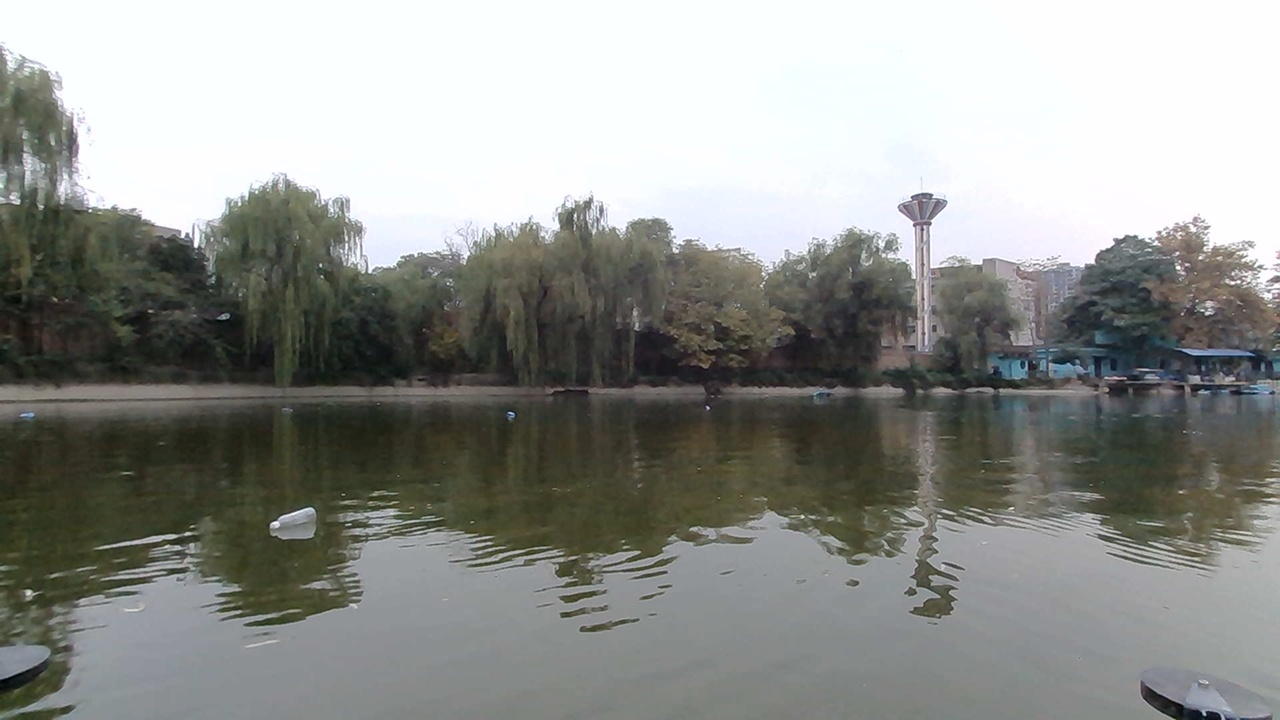bottle: (267, 509, 326, 538), (494, 404, 525, 422)
